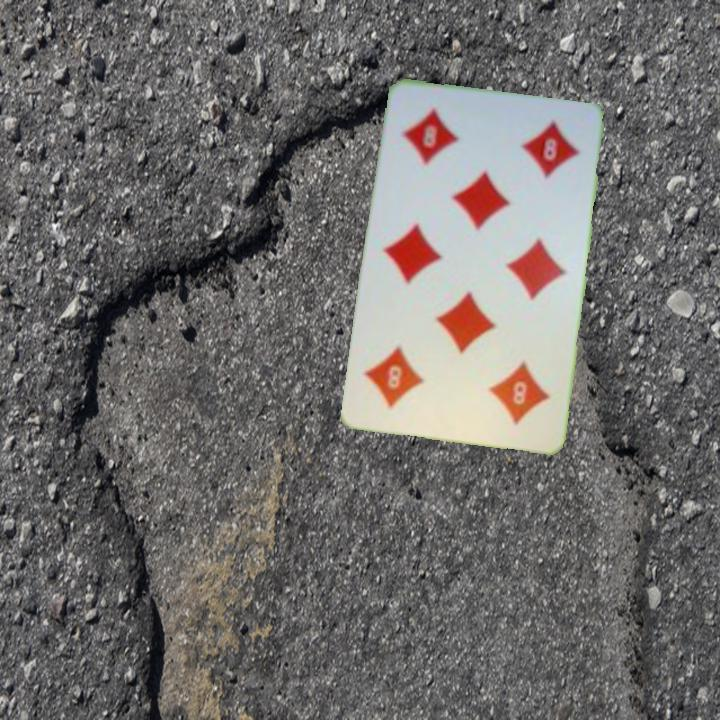d_8.png: (388, 94, 498, 192), (450, 341, 560, 438)
